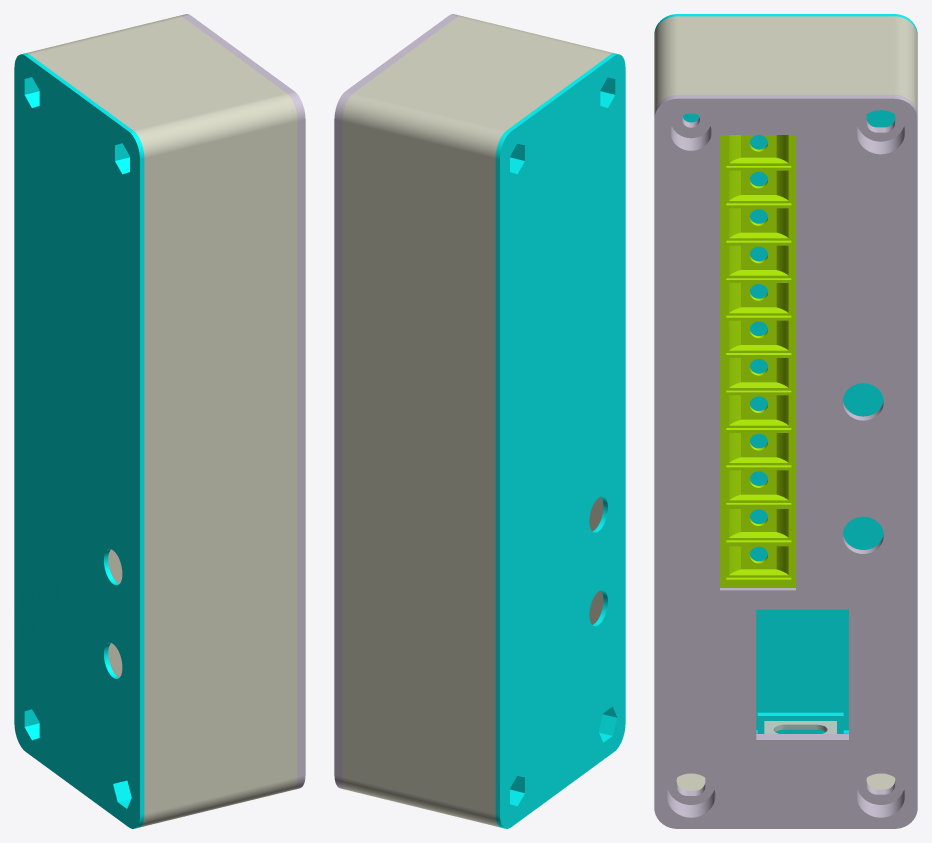
The model's file is meter.glb.
3 views of the same model, side by side, from view 1: azimuth 30°, elevation 25°; view 2: azimuth 150°, elevation 25°; view 3: azimuth 270°, elevation 25° (orthographic). The views are drawn at different scales.
Parts seen in each view (by area): view 1: Solid (×3); view 2: Solid (×3); view 3: Solid (×5).
Boxes of the visible parts, left/top/right/bottom form: Solid (×3): left=14, top=14, right=305, bottom=828; Solid (×3): left=334, top=14, right=625, bottom=828; Solid (×5): left=654, top=14, right=917, bottom=828.
Bounding box in the file's own units: 0.037 × 0.1486 × 0.0486.
